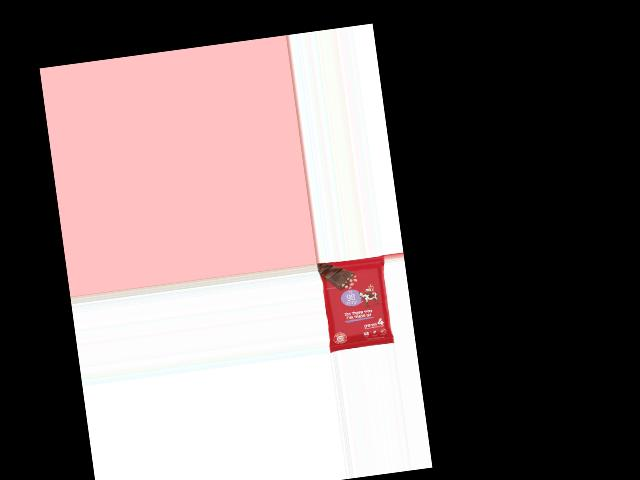chocolate: (319, 255, 395, 352)
